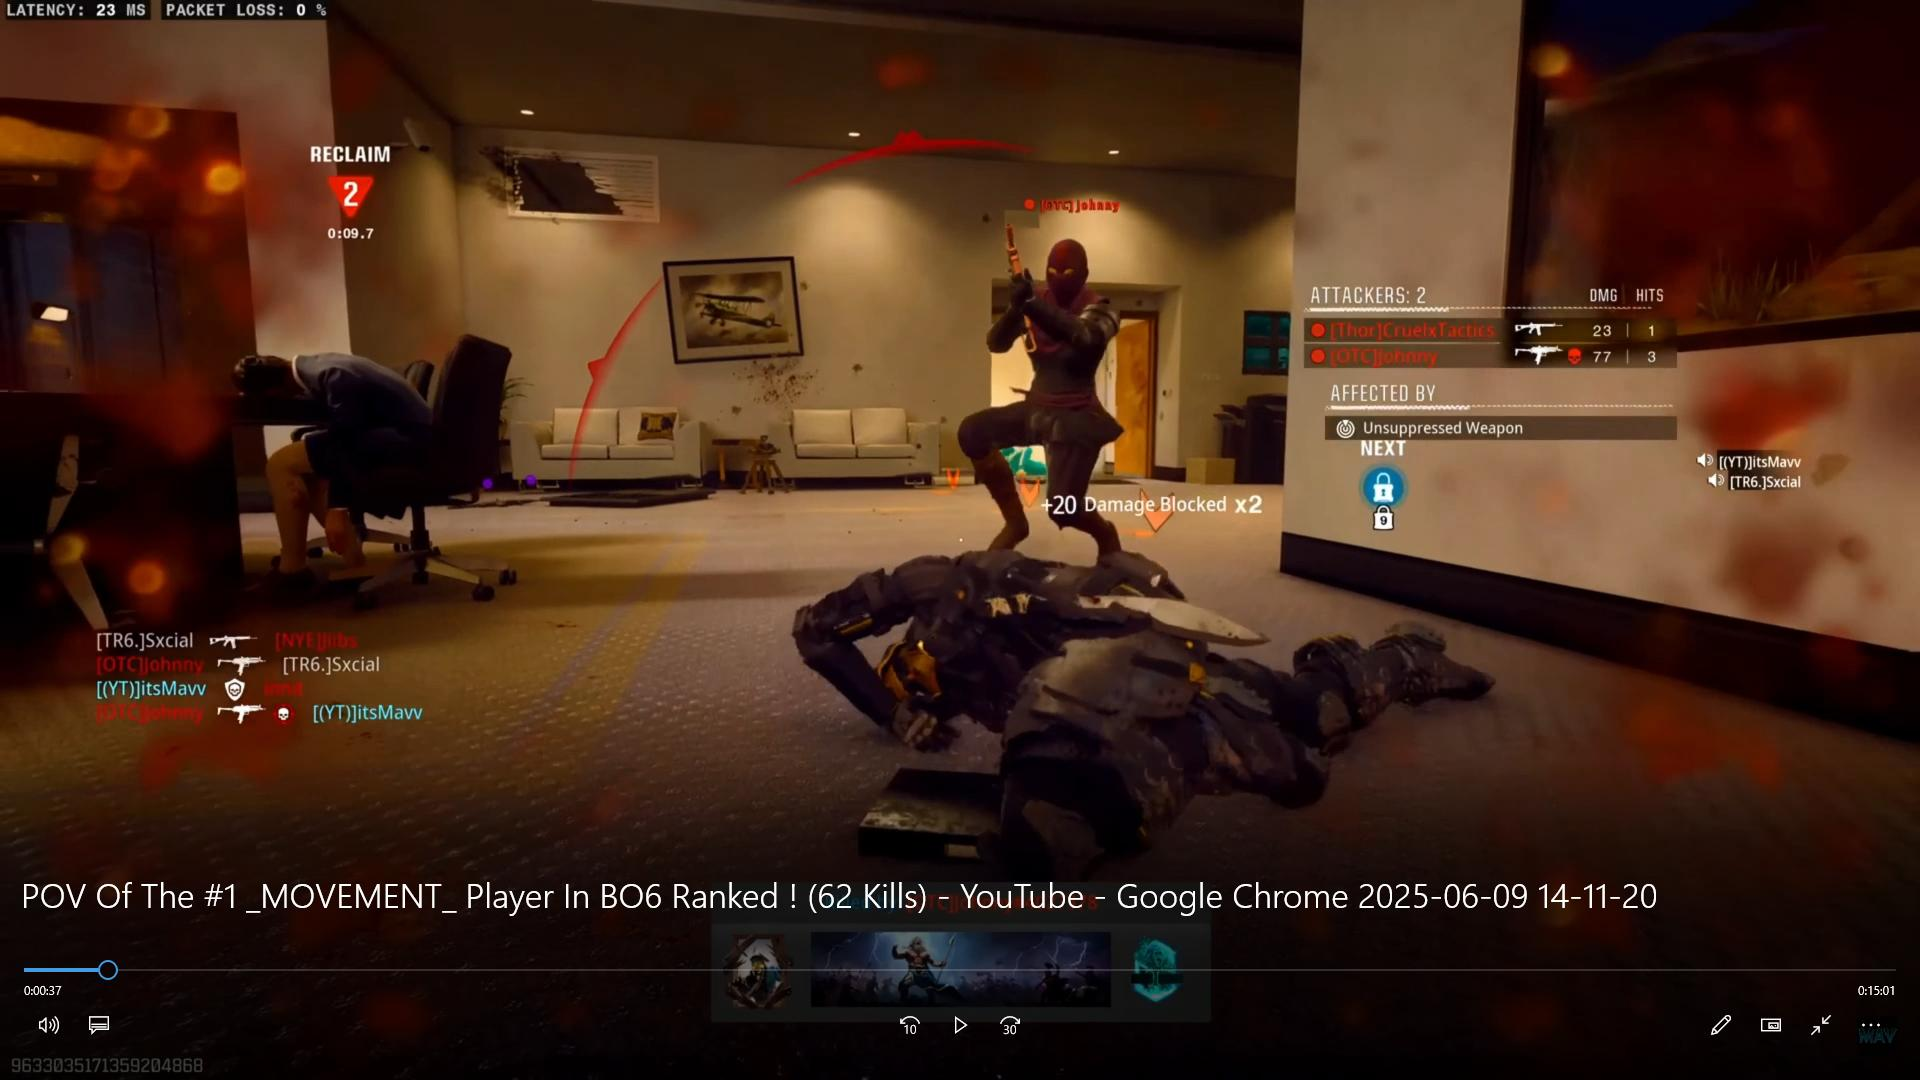Enemy: (964, 224, 1133, 539)
